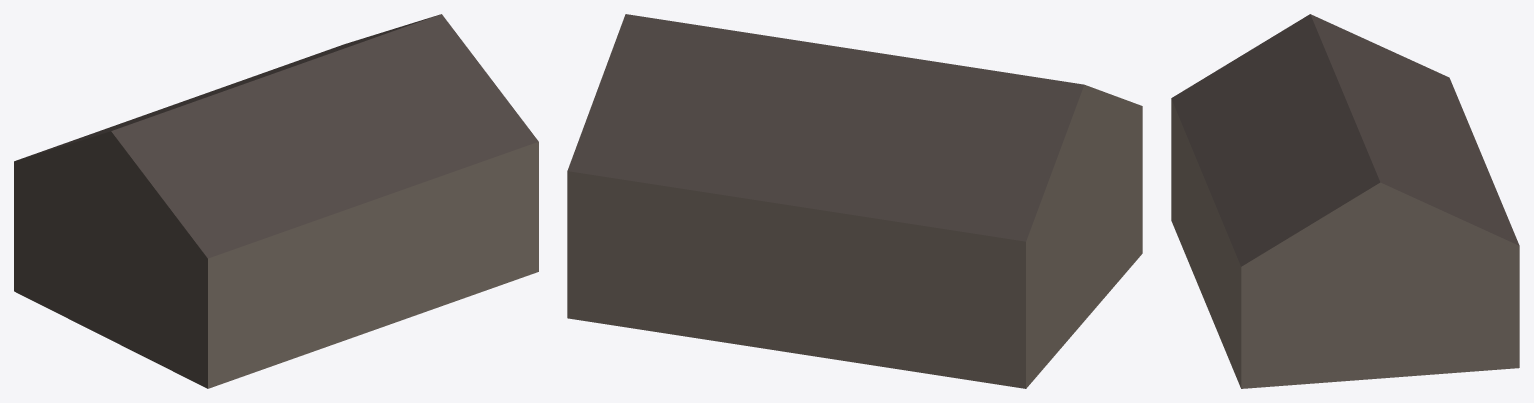
3 views of the same model, side by side, from view 1: azimuth 30°, elevation 25°; view 2: azimuth 150°, elevation 25°; view 3: azimuth 270°, elevation 25° (orthographic). The views are drawn at different scales.
Visible parts, largest first — view 1: HP-w1367350941; view 2: HP-w1367350941; view 3: HP-w1367350941.
Part boxes in pixels (x1,y1,x2,y2): HP-w1367350941: [14, 14, 538, 388]; HP-w1367350941: [567, 14, 1142, 388]; HP-w1367350941: [1171, 14, 1519, 388].
Size of the model in its own units: 19.95 by 9.64 by 15.52.
